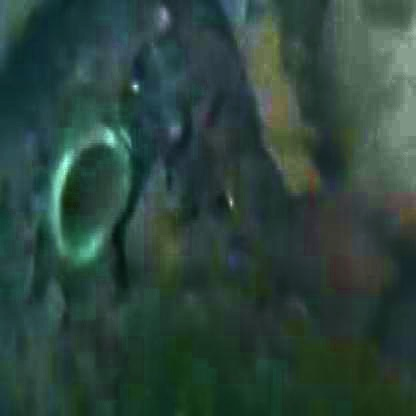tire: (34, 98, 139, 305)
